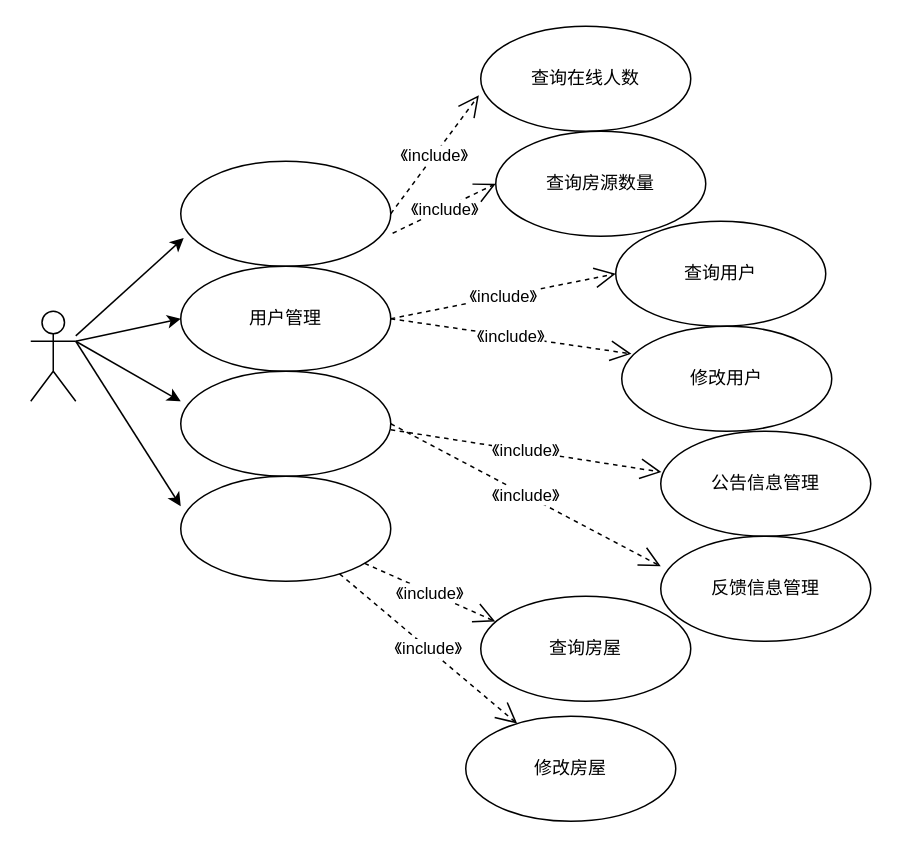
Some shapes in this 897 by 848 pixel diagram are drawn without their labels. The shapes that lost their labels are listed below. From the top down, each one's centre as x and y in pixels, then its label:
At point 285,213: "站点管理".
At point 52,355: "管理员".
At point 285,423: "内容管理".
At point 285,528: "房屋信息管理".
